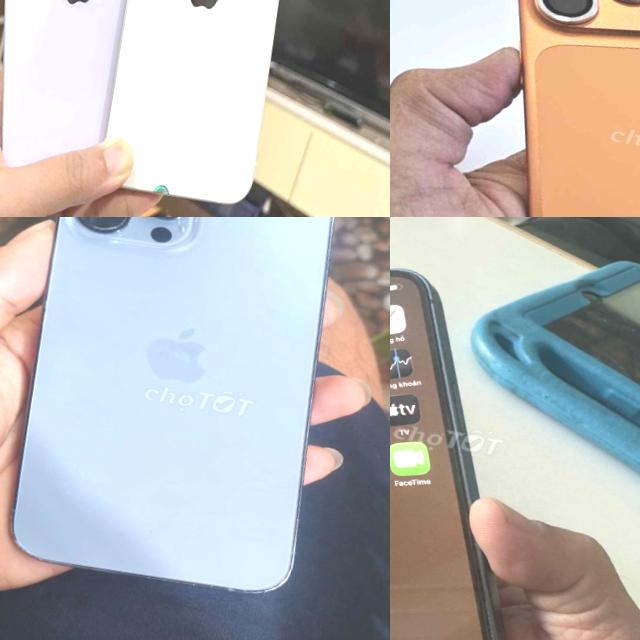gen_12_13: (0, 217, 368, 608), (390, 235, 581, 640)
gen_14: (85, 0, 325, 217)
gen_17: (438, 0, 640, 217)
